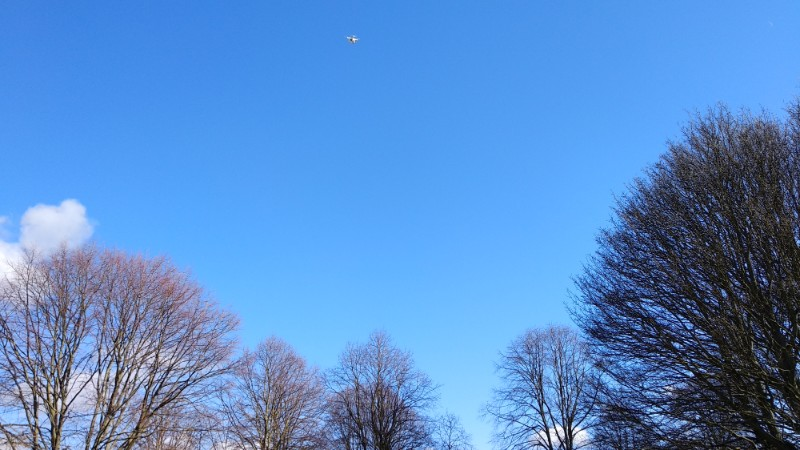drone: (345, 32, 358, 44)
